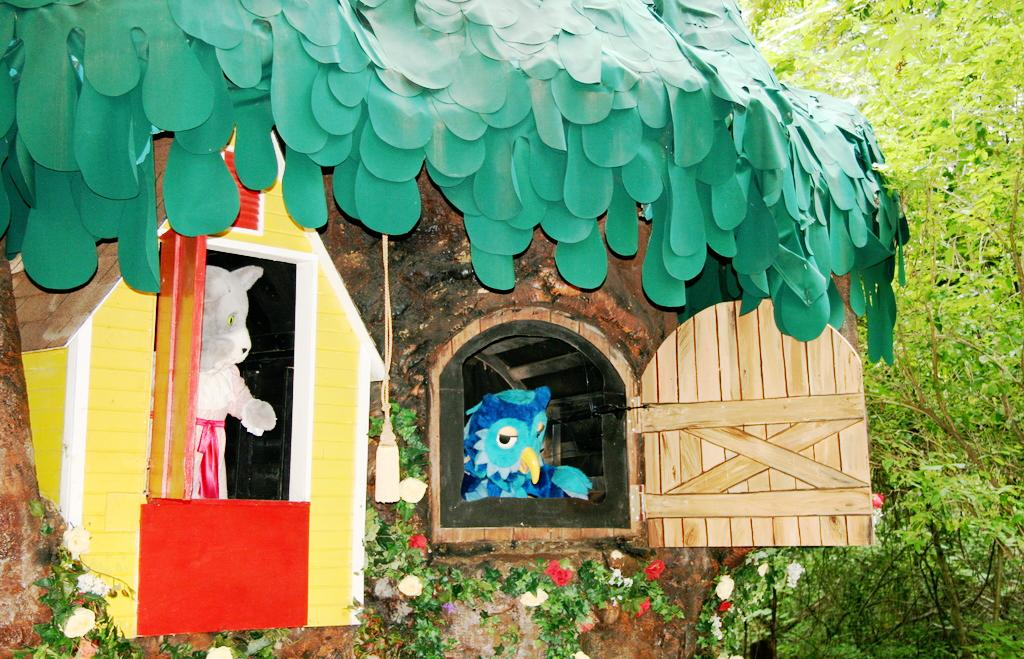Owl: (462, 386, 596, 500)
